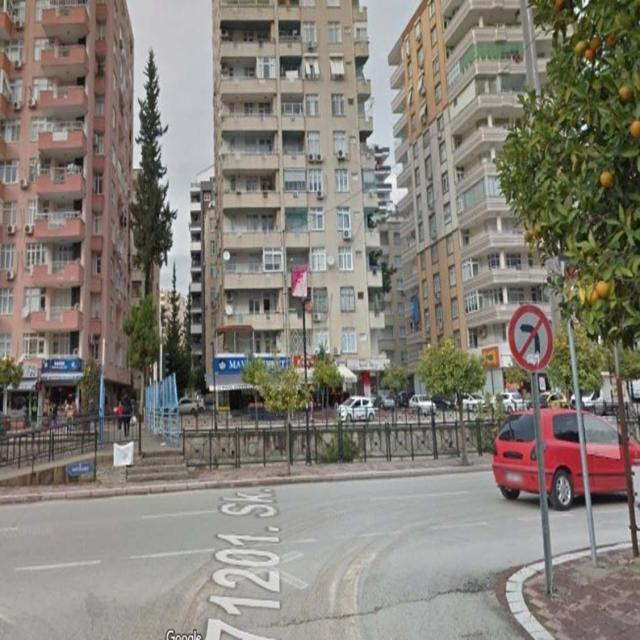soladonulmez: (509, 305, 554, 371)
